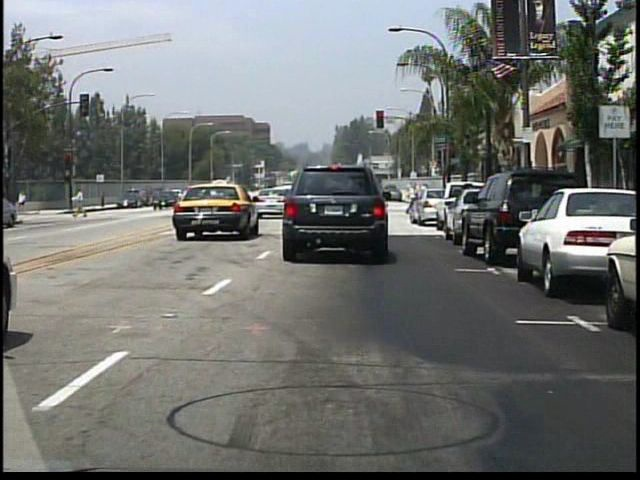person: (403, 183, 423, 216), (74, 187, 89, 220), (17, 189, 30, 215)
